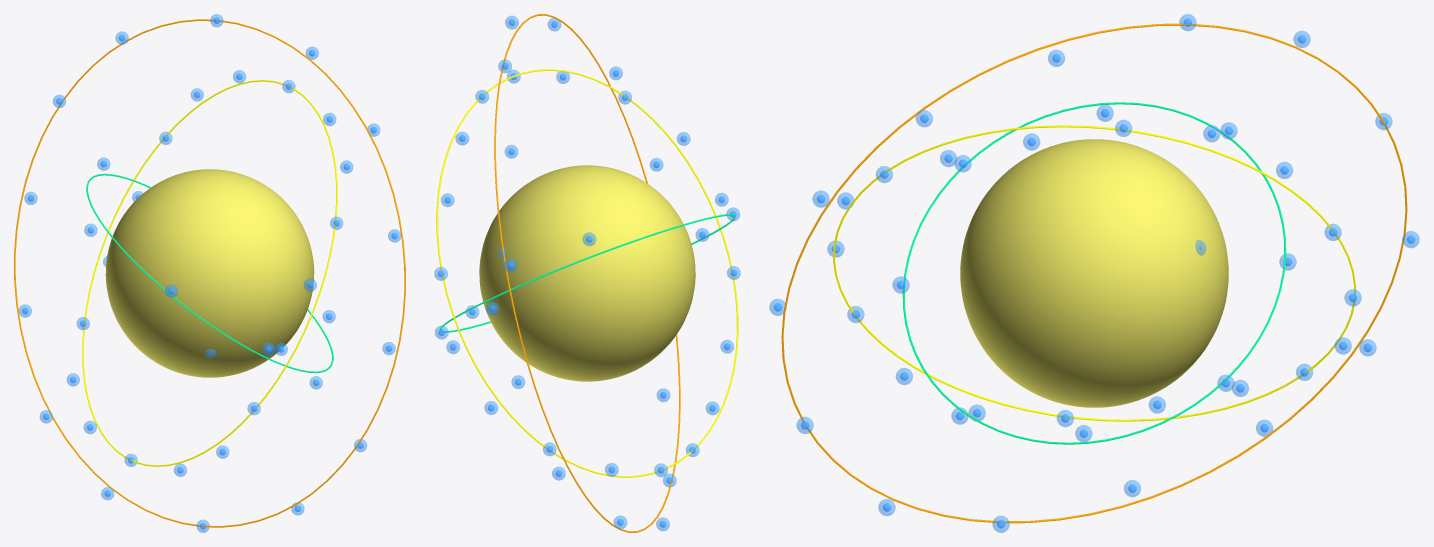
3 views of the same model, side by side, from view 1: azimuth 30°, elevation 25°; view 2: azimuth 150°, elevation 25°; view 3: azimuth 270°, elevation 25° (orthographic). The views are drawn at different scales.
Visible parts, largest first — view 1: Mo, object 61, object 24, object 7; view 2: Mo, object 24, object 61, object 7; view 3: Mo, object 61, object 24, object 7.
Part boxes in pixels (x1,y1,x2,y2): Mo: [105, 169, 314, 377]; object 61: [14, 19, 405, 527]; object 24: [82, 80, 337, 466]; object 7: [86, 173, 333, 373]; Mo: [479, 165, 695, 381]; object 24: [436, 69, 738, 477]; object 61: [494, 14, 680, 532]; object 7: [440, 214, 735, 332]; Mo: [960, 139, 1228, 407]; object 61: [781, 23, 1407, 523]; object 24: [833, 125, 1355, 421]; object 7: [902, 102, 1286, 444].
Bounding box in the file's own units: 3.3 × 5.79 × 5.97.
